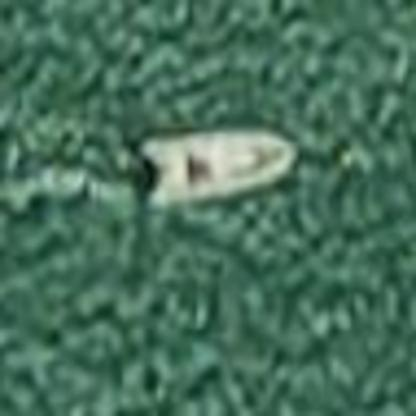ship: (128, 118, 312, 217)
